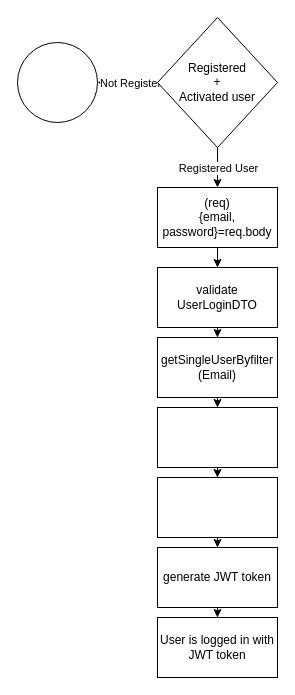
Some shapes in this 295 by 695 pixel diagram are drawn without their labels. The centre of each missing label's shape, as x and y in pixels:
"Make ActivationToken = Inactive" goes at (217,507).
"password and existPassword compare" goes at (217,437).
"Register page" goes at (57,82).
